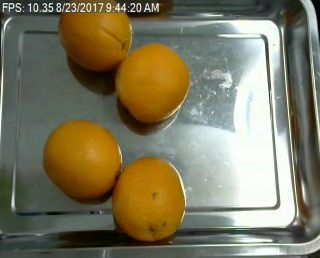Orange: (42, 118, 121, 198), (114, 157, 187, 242), (116, 42, 192, 122), (58, 1, 132, 73)
